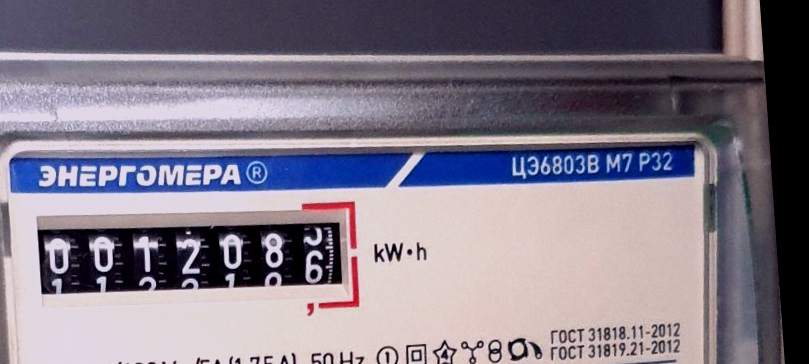0: (87, 231, 118, 275), (44, 232, 71, 276), (218, 230, 244, 271)
1: (132, 231, 157, 274)
2: (176, 235, 203, 276)
6: (299, 247, 325, 284)
8: (260, 229, 285, 270)
screen: (25, 180, 373, 342)
